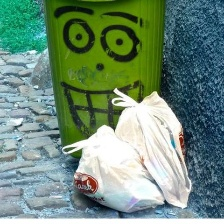plastic_bag: (105, 82, 197, 211), (56, 123, 172, 213)
